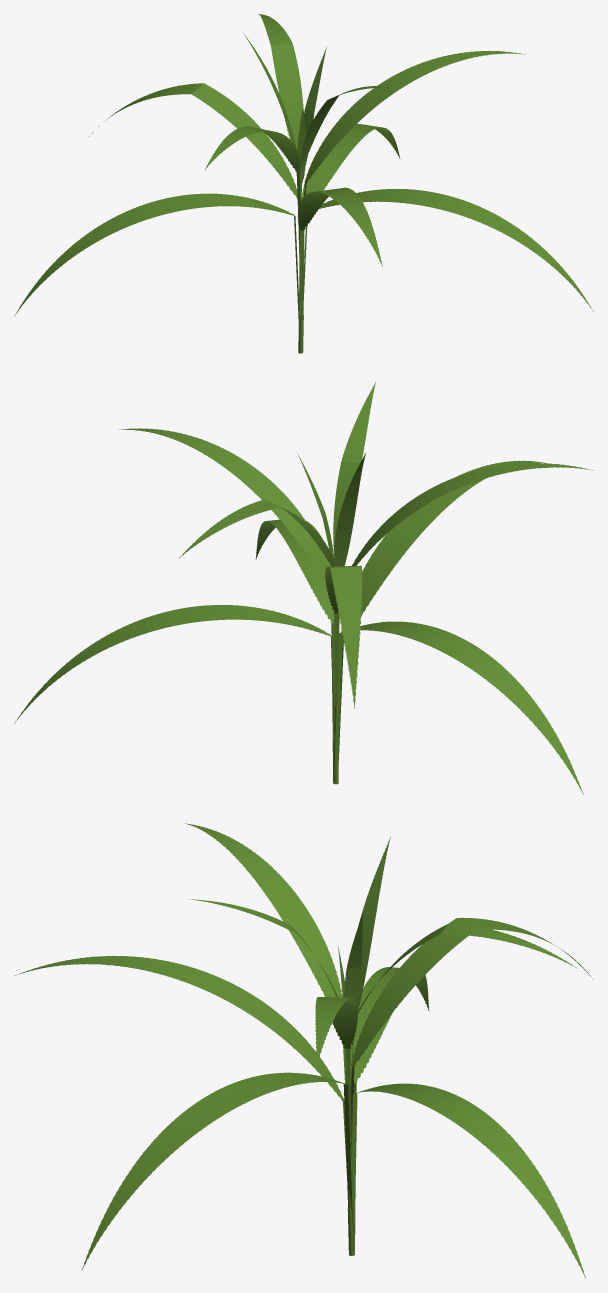
Rendered from maize_001_day_080.dae.
3 renders of one model, top to bottom at view 1: azimuth 30°, elevation 25°; view 2: azimuth 150°, elevation 25°; view 3: azimuth 270°, elevation 25°, orthographic. The views are drawn at different scales.
Visible parts, largest first — view 1: node; view 2: node; view 3: node.
Boxes of the visible parts, <box> form: node: <box>14,14,593,353</box>; node: <box>14,382,593,794</box>; node: <box>14,823,593,1278</box>.
Size of the model in its own units: 1.4 by 0.9212 by 1.23.
Materials: 1 (1 with a texture image).
